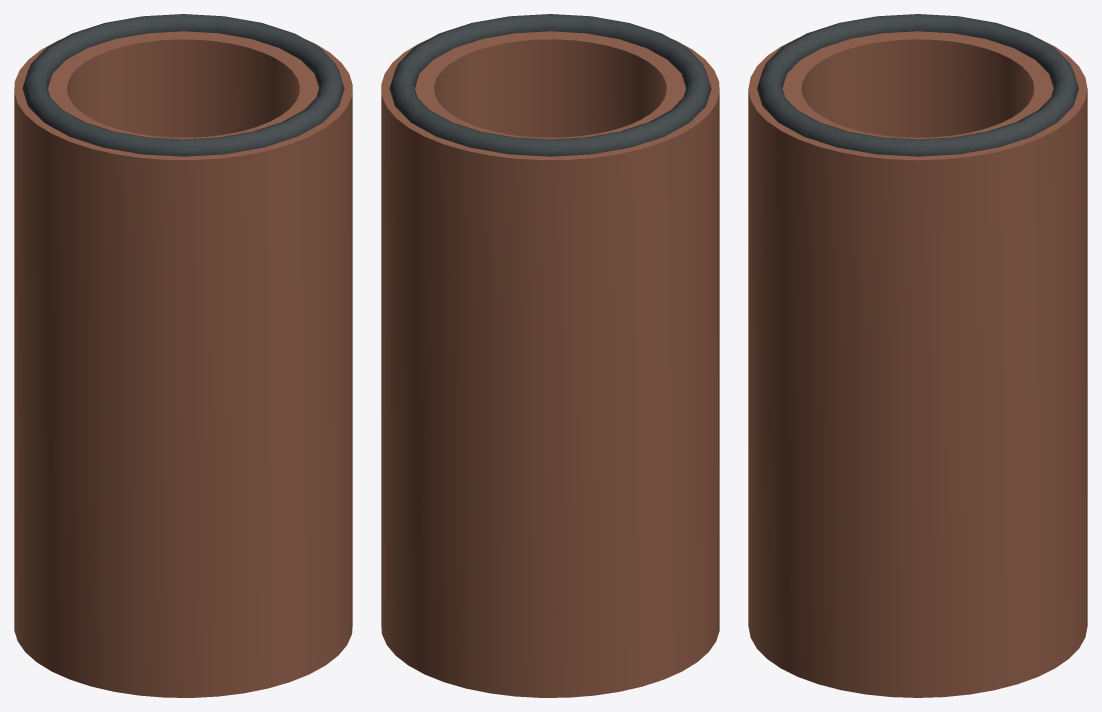
The model's file is undercity-sewers-and-thieves-den-manhole-shaft-b7b85859__25024.glb.
3 renders of one model, left to right at view 1: azimuth 30°, elevation 25°; view 2: azimuth 150°, elevation 25°; view 3: azimuth 270°, elevation 25°, orthographic.
Visible parts, largest first — view 1: manhole-shaft; view 2: manhole-shaft; view 3: manhole-shaft.
Part boxes in pixels (x1,y1,x2,y2): manhole-shaft: [14, 14, 352, 697]; manhole-shaft: [381, 14, 719, 697]; manhole-shaft: [748, 14, 1087, 697].
Bounding box in the file's own units: 1.6 × 2.86 × 1.6.
